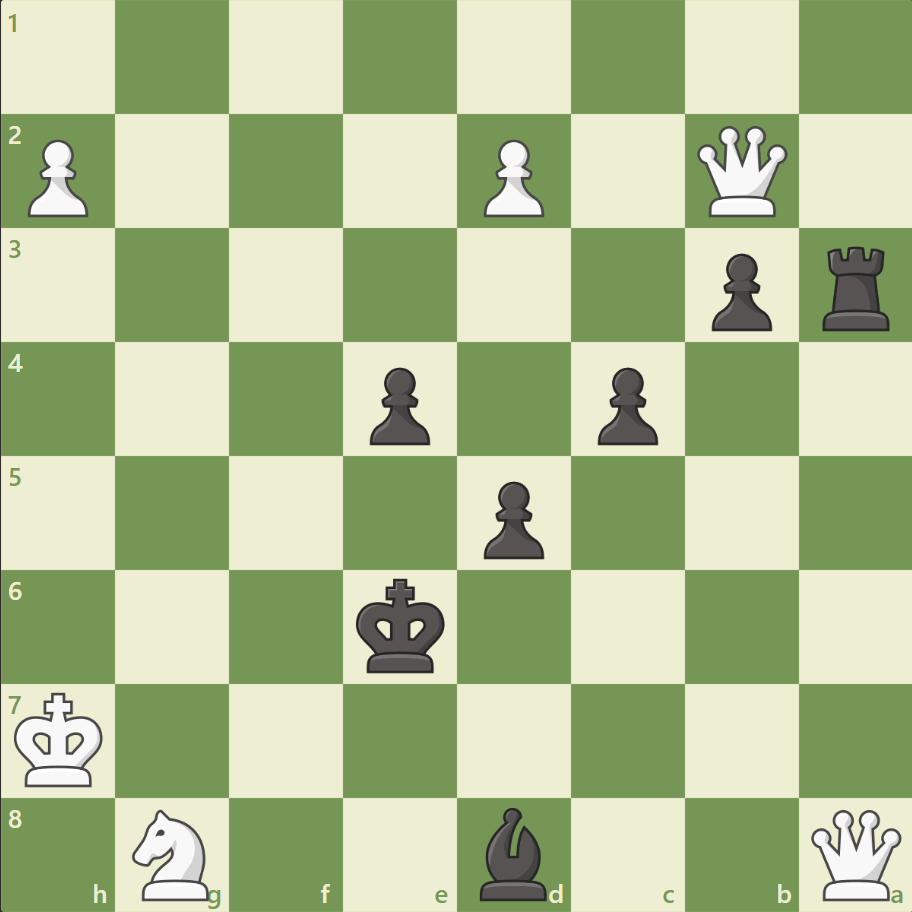K: (11, 685, 111, 793)
N: (124, 802, 222, 904)
P: (474, 132, 549, 223), (20, 132, 95, 223)
Q: (691, 122, 790, 222), (805, 804, 904, 903)
b: (471, 801, 555, 904)
k: (351, 571, 451, 679)
p: (474, 473, 549, 564), (701, 246, 776, 337), (588, 359, 662, 450), (361, 359, 435, 450)
r: (814, 239, 897, 336)
